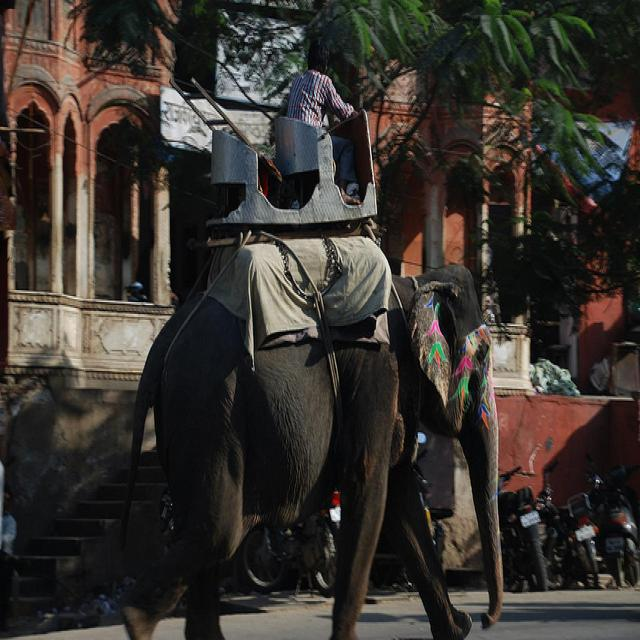motor: (244, 485, 347, 604), (535, 459, 599, 591), (496, 465, 548, 589), (588, 468, 637, 589), (371, 527, 409, 584)
